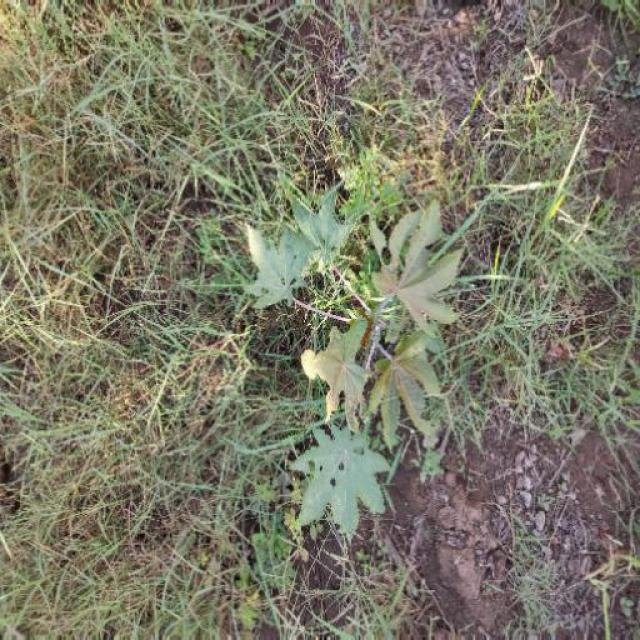weed: (220, 184, 508, 541)
